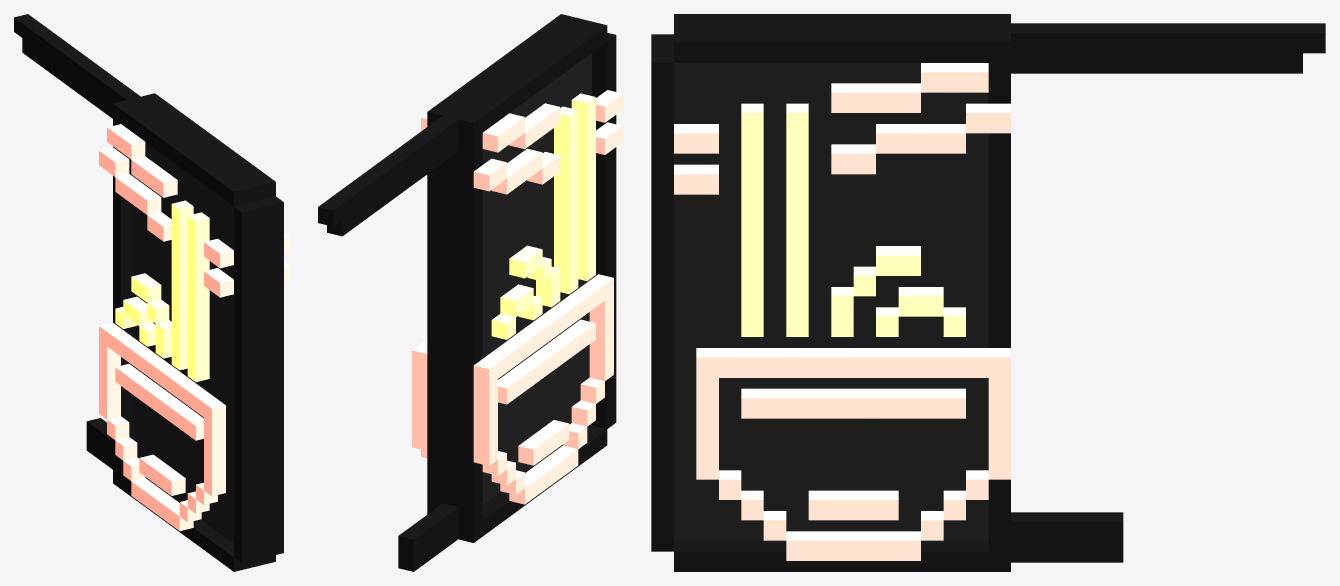
Rendered from ramenSign.glb.
The picture shows the model from 3 angles, left to right: view 1: azimuth 30°, elevation 25°; view 2: azimuth 150°, elevation 25°; view 3: azimuth 270°, elevation 25°; orthographic projection. The views are drawn at different scales.
Visible parts, largest first — view 1: ObjObject; view 2: ObjObject; view 3: ObjObject.
Boxes of the visible parts, left/top/right/bottom form: ObjObject: left=14, top=14, right=289, bottom=571; ObjObject: left=318, top=14, right=622, bottom=571; ObjObject: left=651, top=14, right=1325, bottom=571.
Bounding box in the file's own units: 0.5 × 2.6 × 3.
Materials: 3 (1 with a texture image).
